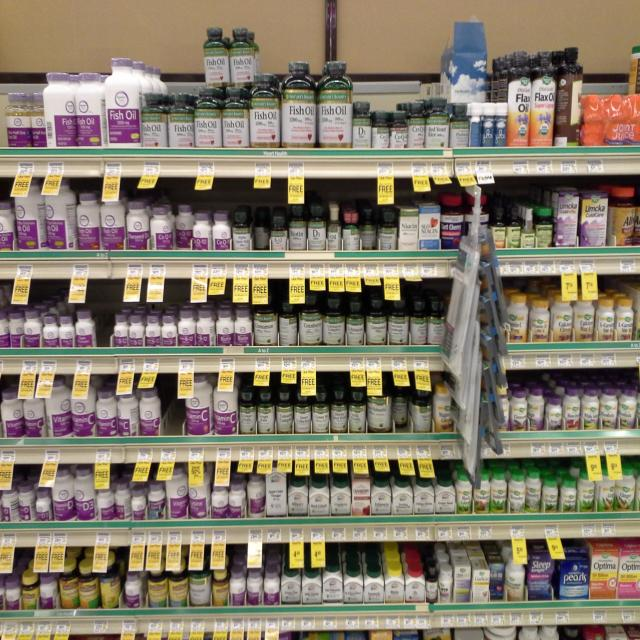empty: (152, 373, 192, 443), (91, 287, 116, 354)
